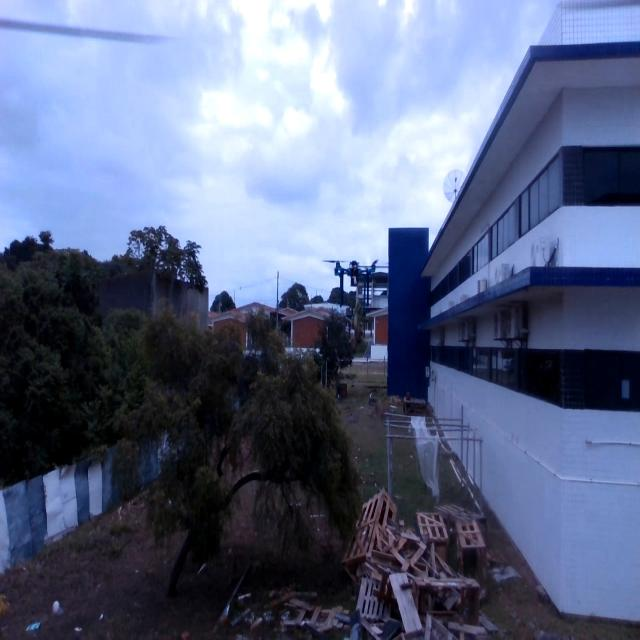-uav-: (326, 249, 381, 318)
